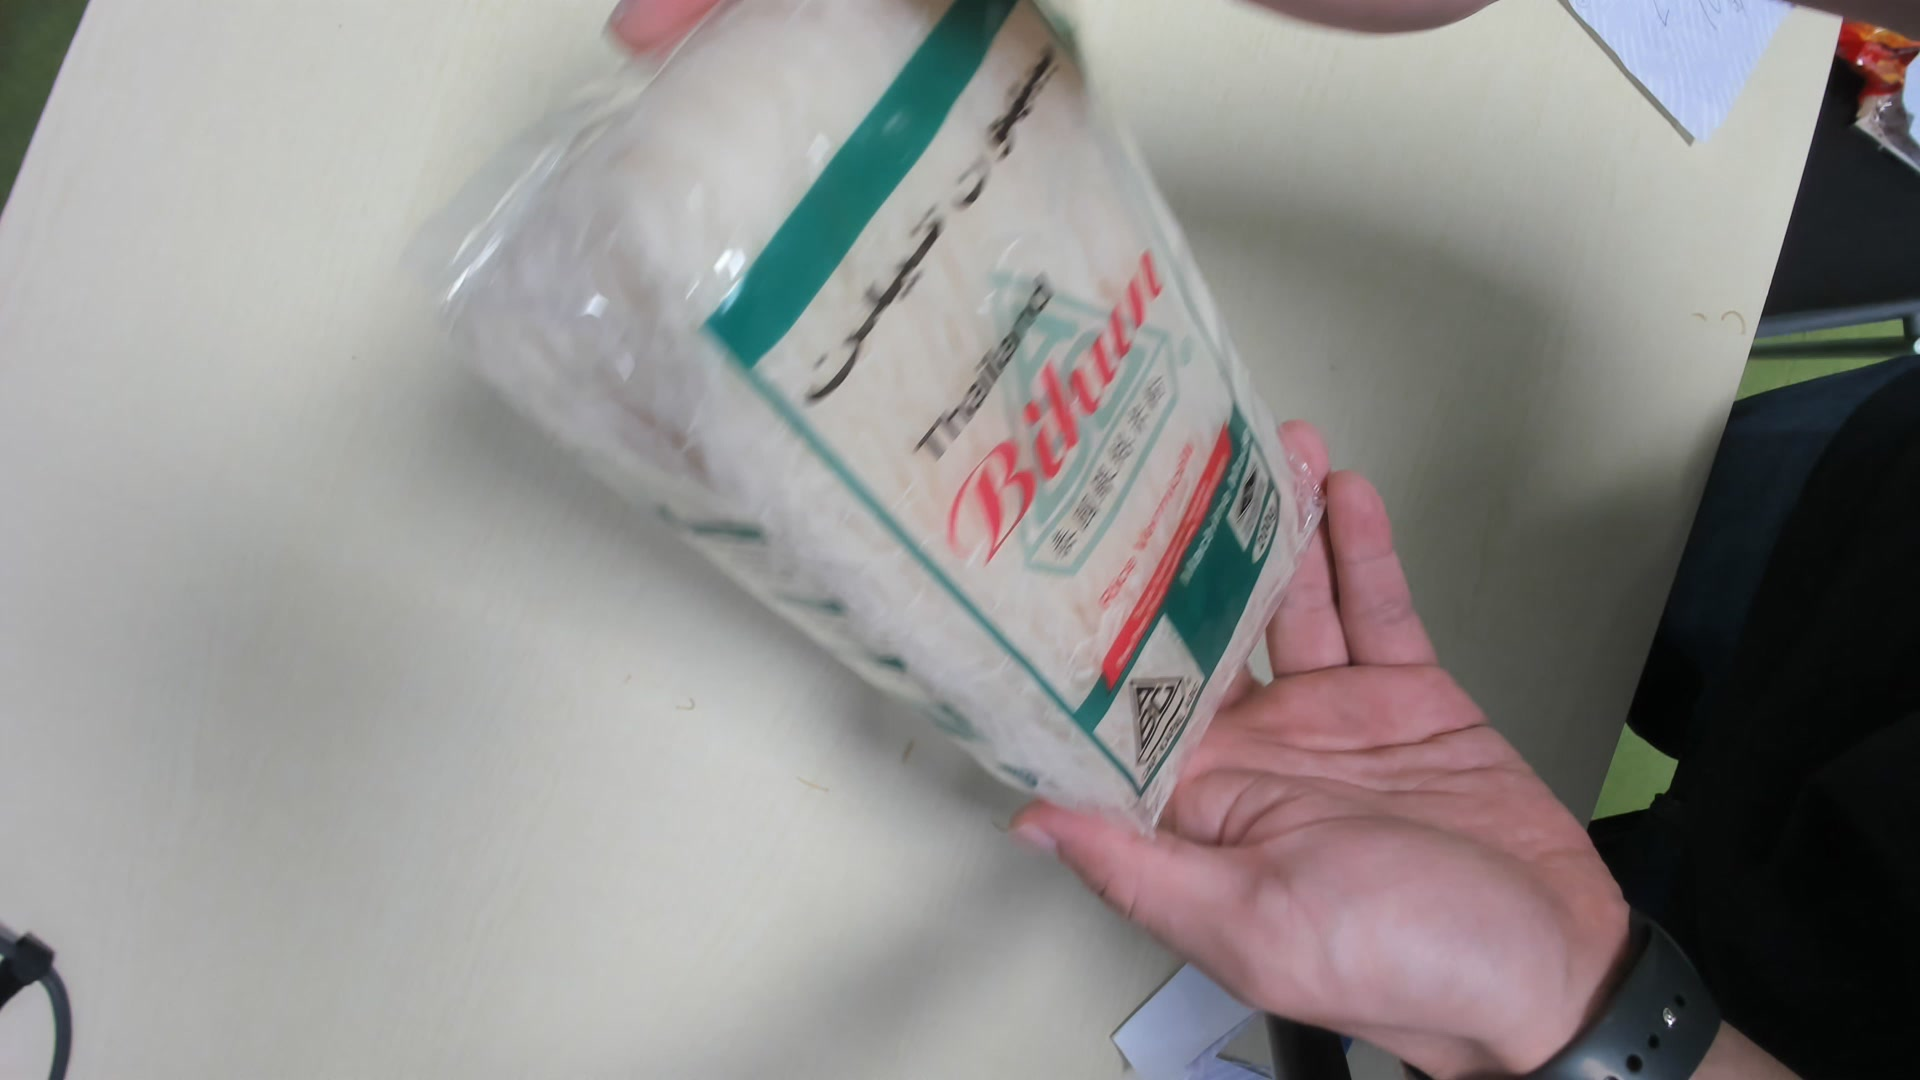BeeHoonVermicelli_200-299g_Halal_NonHealthy: (423, 5, 1323, 825)
